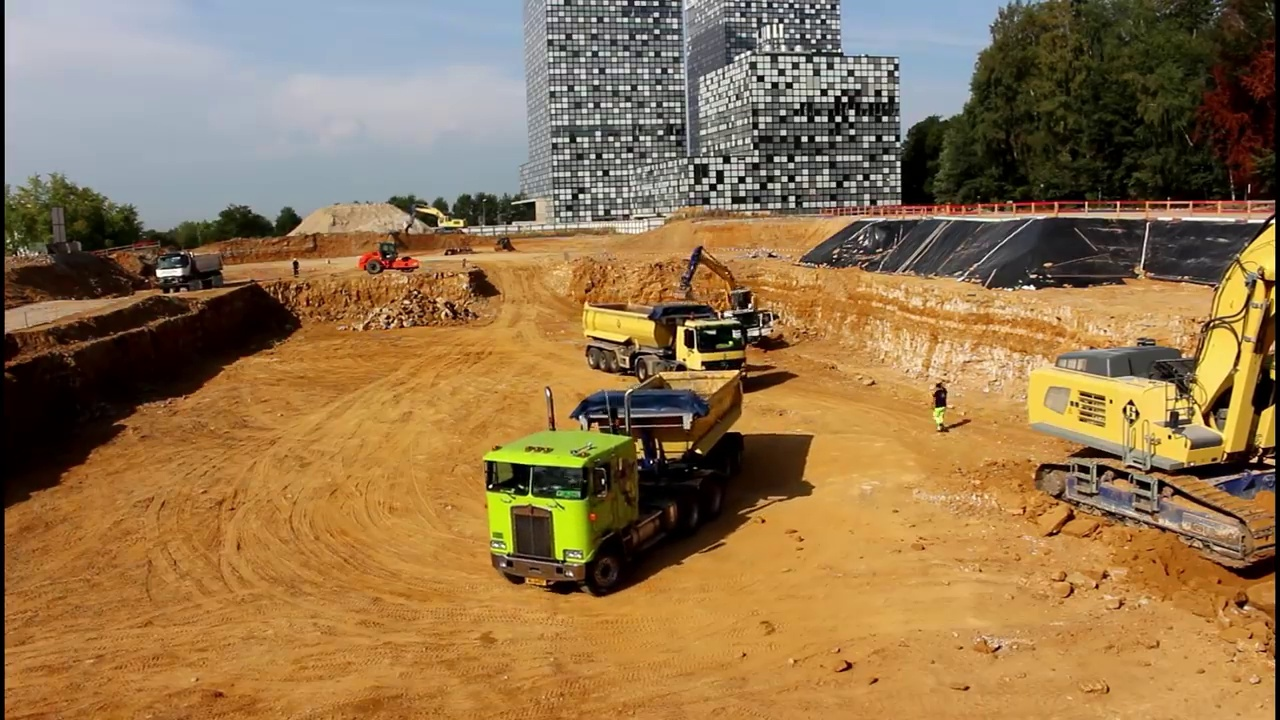compactor: (357, 238, 422, 275)
excavator: (1022, 207, 1280, 579), (669, 241, 761, 330), (392, 202, 468, 241)
truck: (579, 296, 751, 392), (685, 307, 777, 351), (155, 248, 226, 292)
worker: (924, 379, 957, 437), (289, 254, 306, 283)
